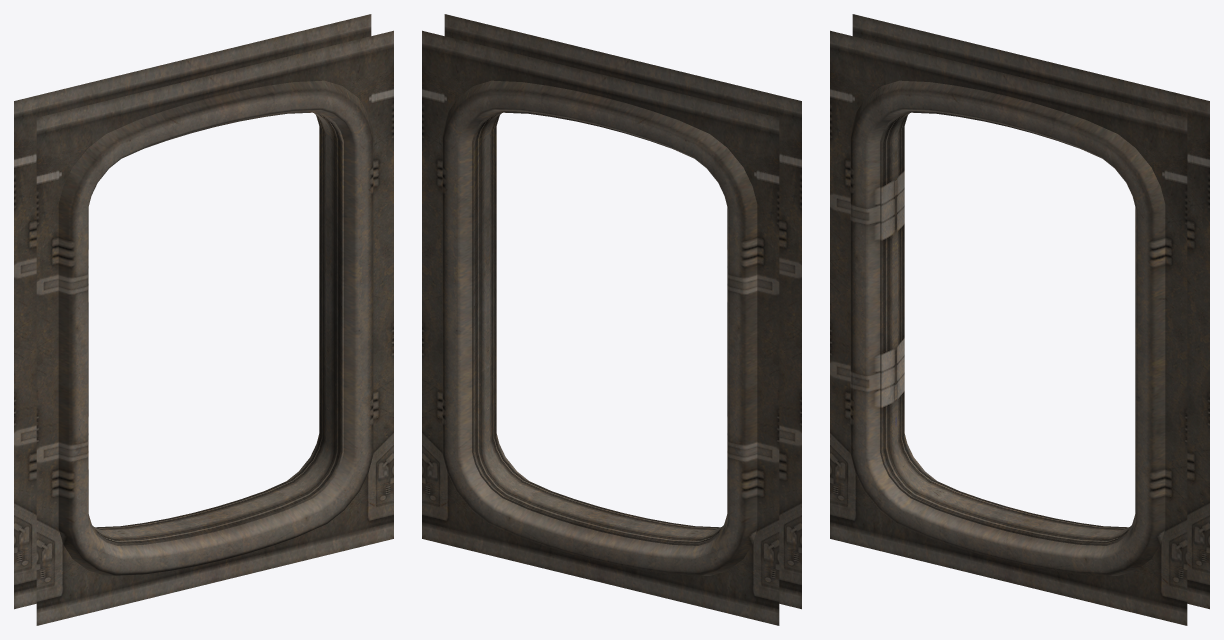
File: door_frame.fbx
The picture shows the model from 3 angles, left to right: view 1: azimuth 30°, elevation 25°; view 2: azimuth 150°, elevation 25°; view 3: azimuth 330°, elevation 25°; orthographic projection.
Visible parts, largest first — view 1: Mesh; view 2: Mesh; view 3: Mesh.
Boxes of the visible parts, x1,y1,x2,y2 form: Mesh: (14, 14, 393, 625); Mesh: (422, 14, 801, 625); Mesh: (830, 14, 1209, 625).
Bounding box in the file's own units: 128 × 175 × 22.79.
